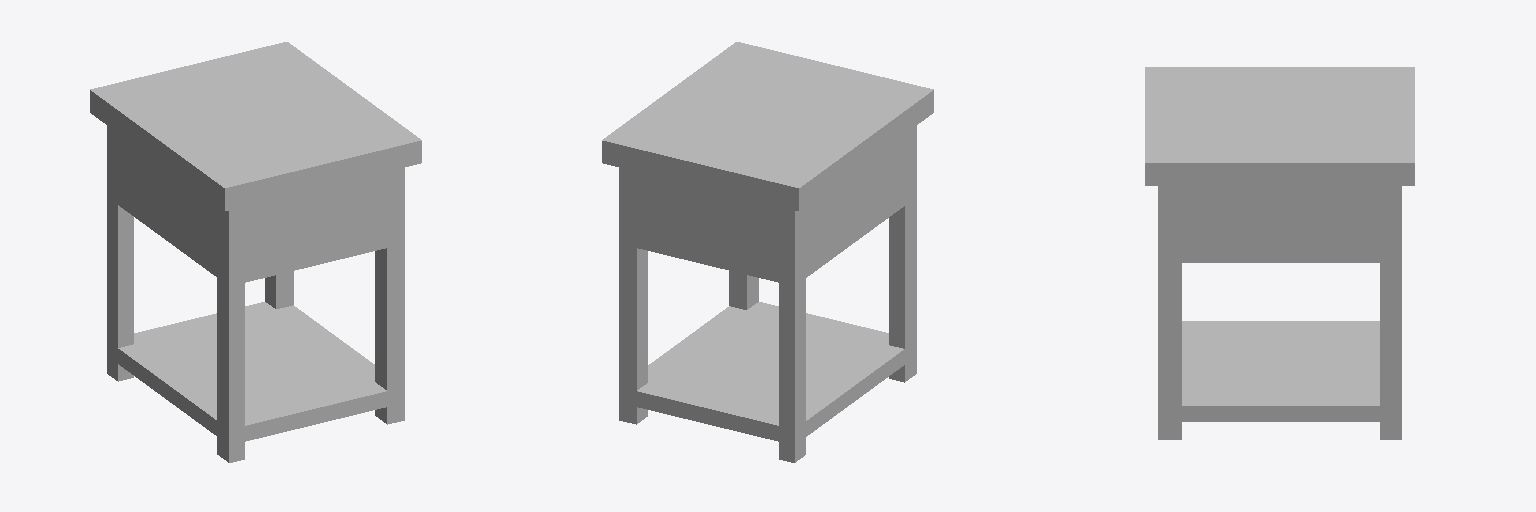
The model's file is Table.obj.
3 views of the same model, side by side, from view 1: azimuth 30°, elevation 25°; view 2: azimuth 150°, elevation 25°; view 3: azimuth 270°, elevation 25° (orthographic).
Parts seen in each view (by area): view 1: pCube1; view 2: pCube1; view 3: pCube1.
Boxes of the visible parts, x1=… form: pCube1: x1=90, y1=42, x2=421, y2=462; pCube1: x1=602, y1=42, x2=933, y2=462; pCube1: x1=1145, y1=67, x2=1414, y2=439.
Size of the model in its own units: 9.7 by 13.23 by 11.48.